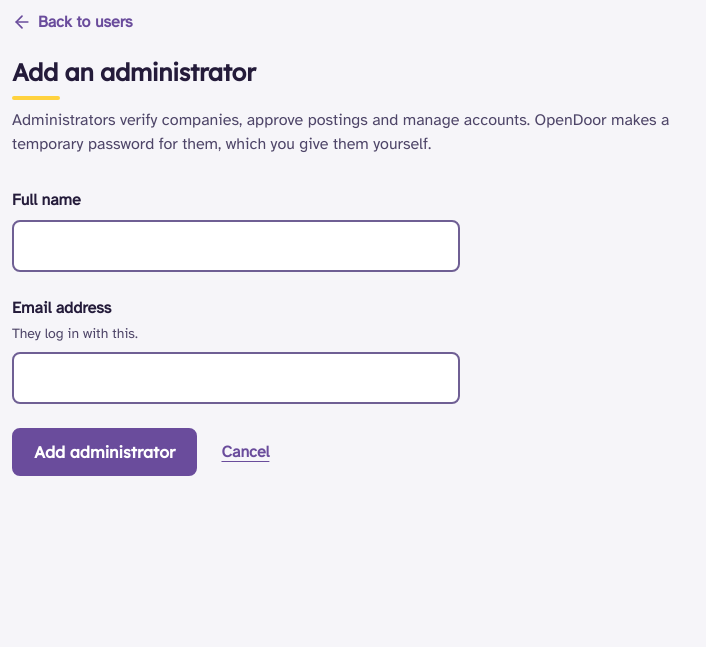
AddAdminPage › shows the server refusing a used email
Type "Rosa Lim" into the field labelled "Full name". click: coordinates (236, 246)
box: [12, 220, 460, 272]
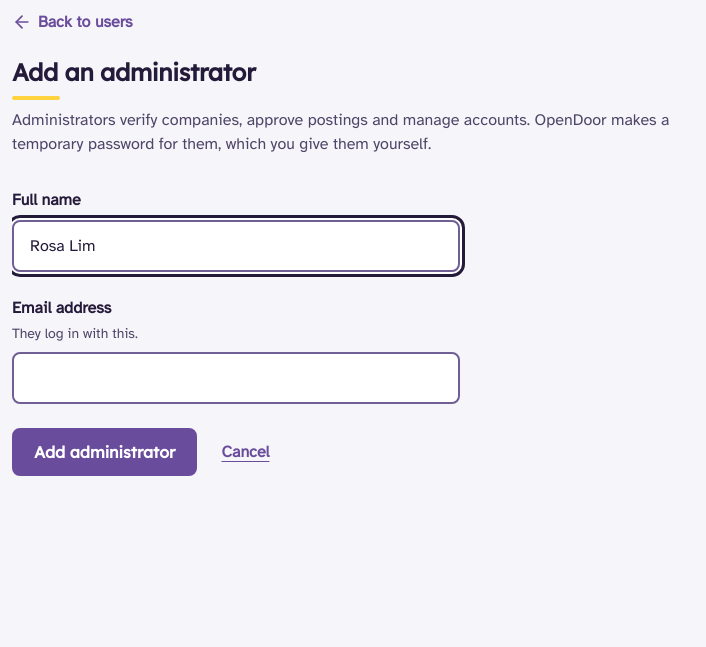
Type "admin@opendoor.test" into the field labelled "Email address". click: coordinates (236, 378)
box: [12, 352, 460, 404]
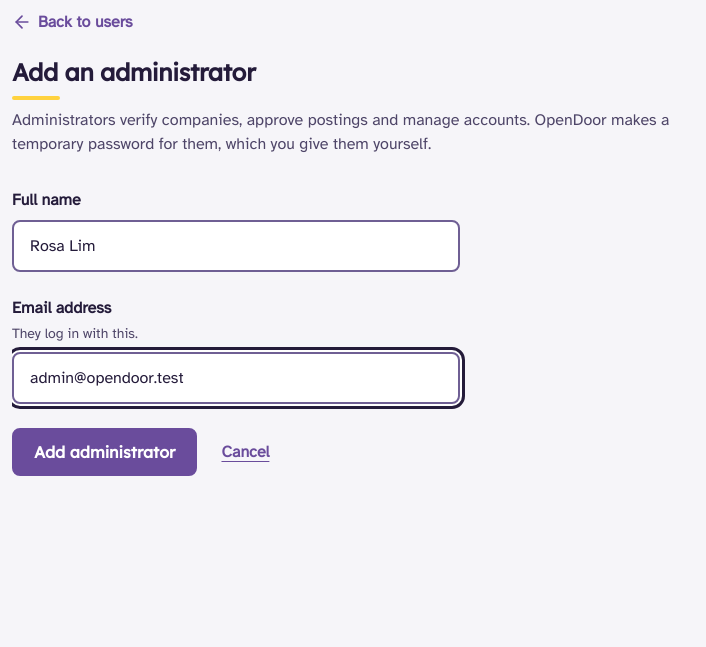
Click the button "Add administrator". click: coordinates (105, 452)
box: [12, 428, 198, 476]
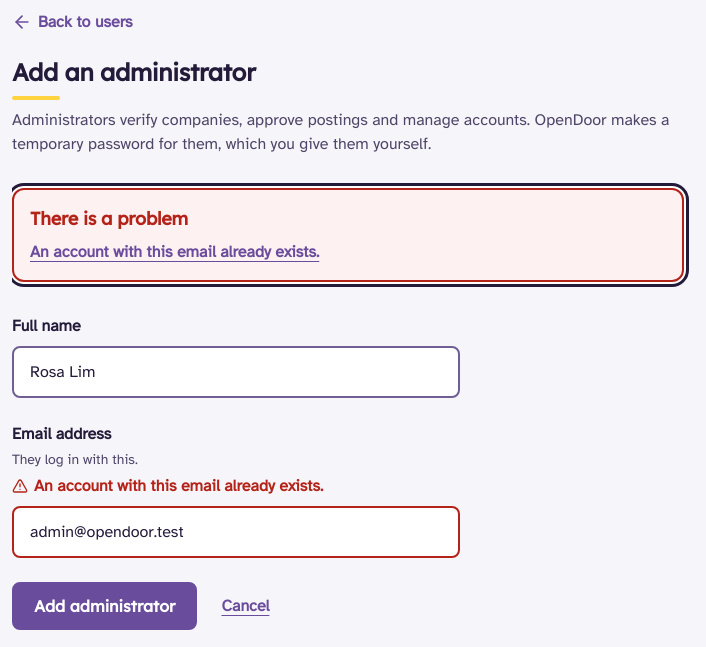
Expected: the number of links "An account with this email already exists." is 2, [30, 242, 319, 262]; [34, 474, 323, 498]
